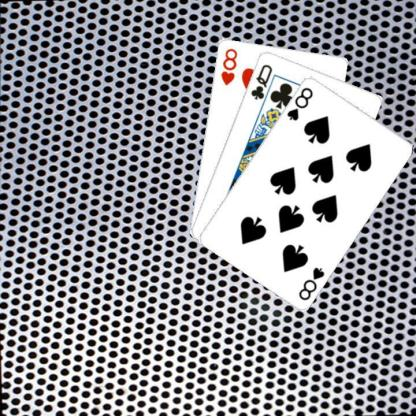8H: (218, 46, 238, 86)
8S: (284, 84, 314, 122), (296, 264, 326, 302)
QC: (248, 61, 273, 101)
